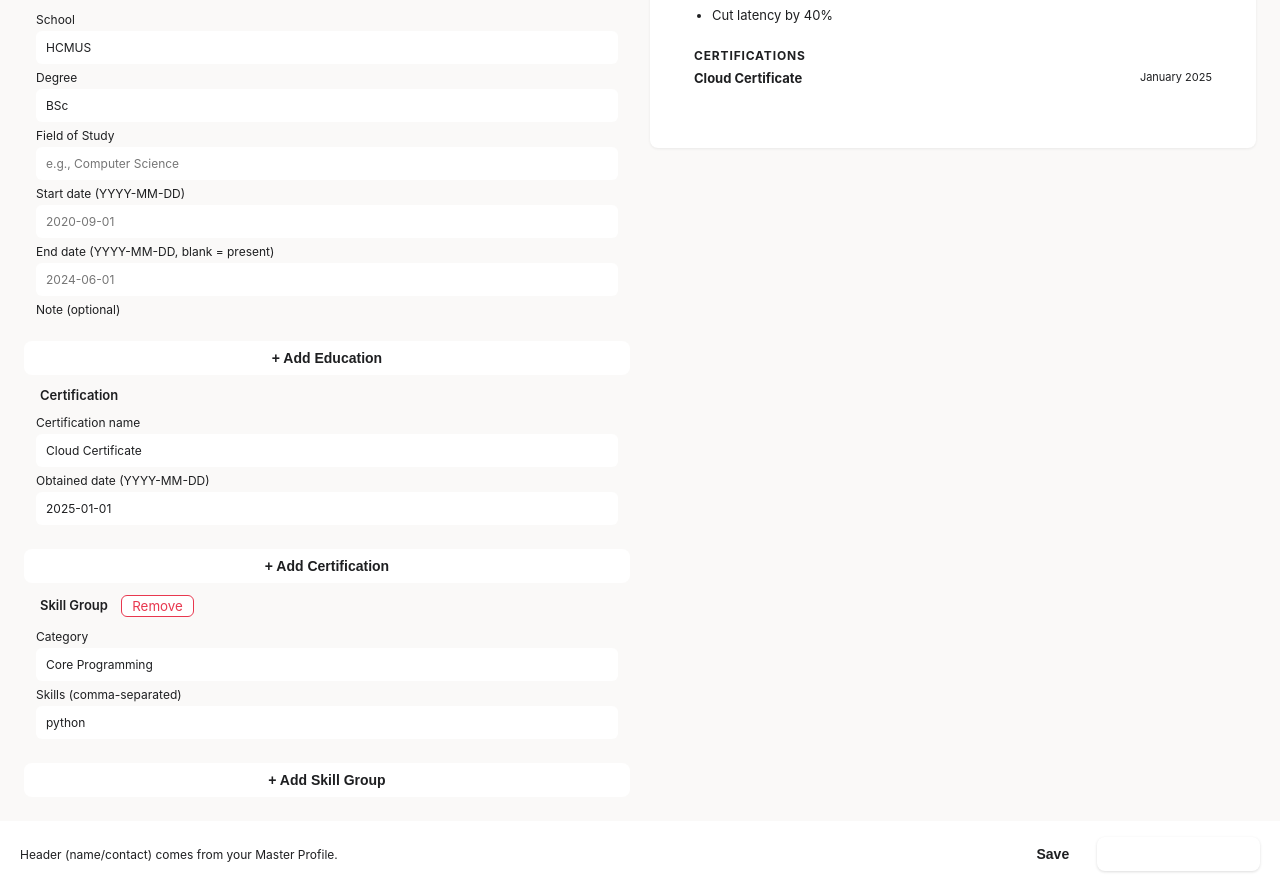
Test: CvEditor certifications › only shows remove controls after another certification is added
(page scrolled)
Click the button "+ Add Certification" at (327, 566), box [24, 549, 630, 583]
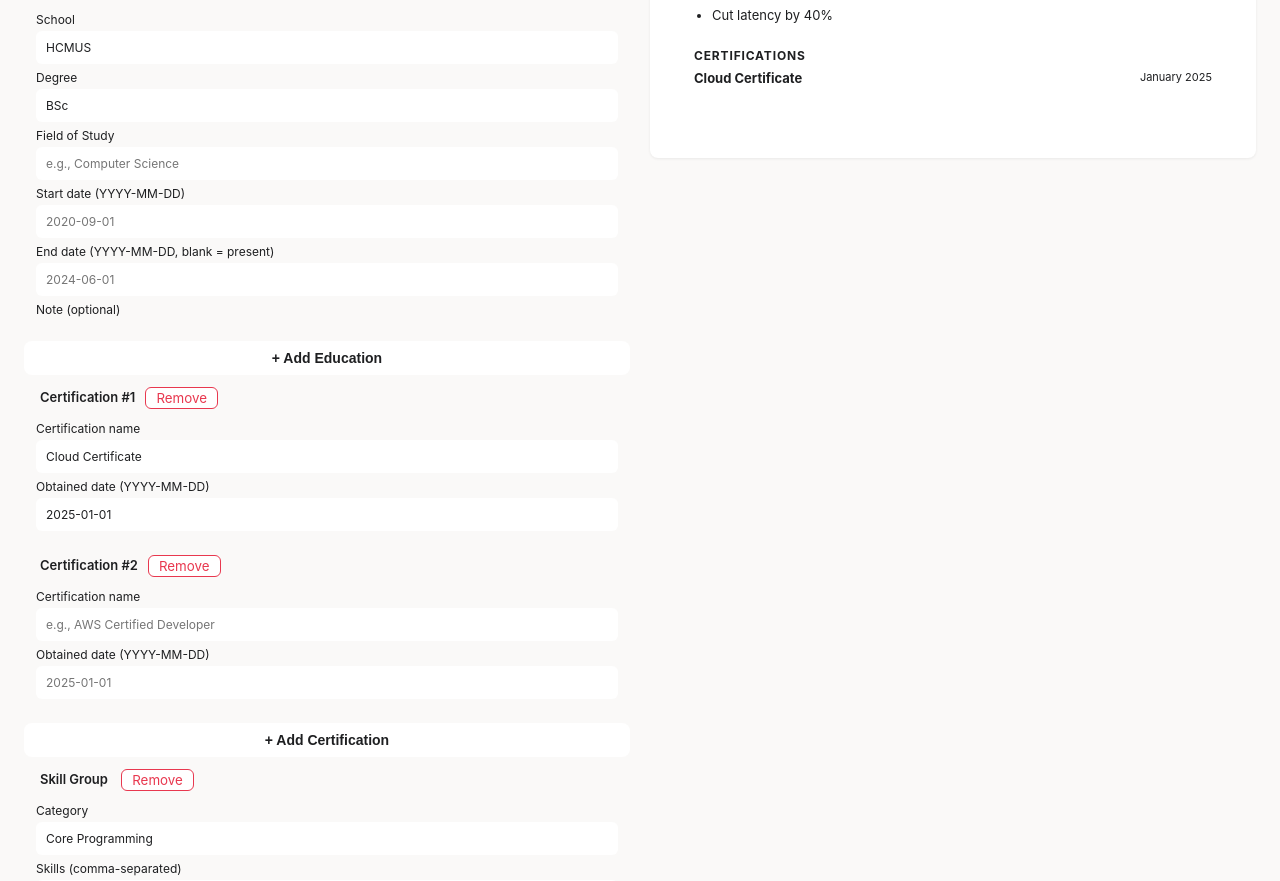
Expected: the number of fields labelled "Certification name" is 2, [36, 440, 618, 473]; [36, 608, 618, 641]
Expected: the button with aria-label "Remove certification #1" is shown, [145, 387, 218, 409]
Expected: the button with aria-label "Remove certification #2" is shown
Click the button with aria-label "Remove certification #2" at (184, 566), box [148, 555, 221, 577]
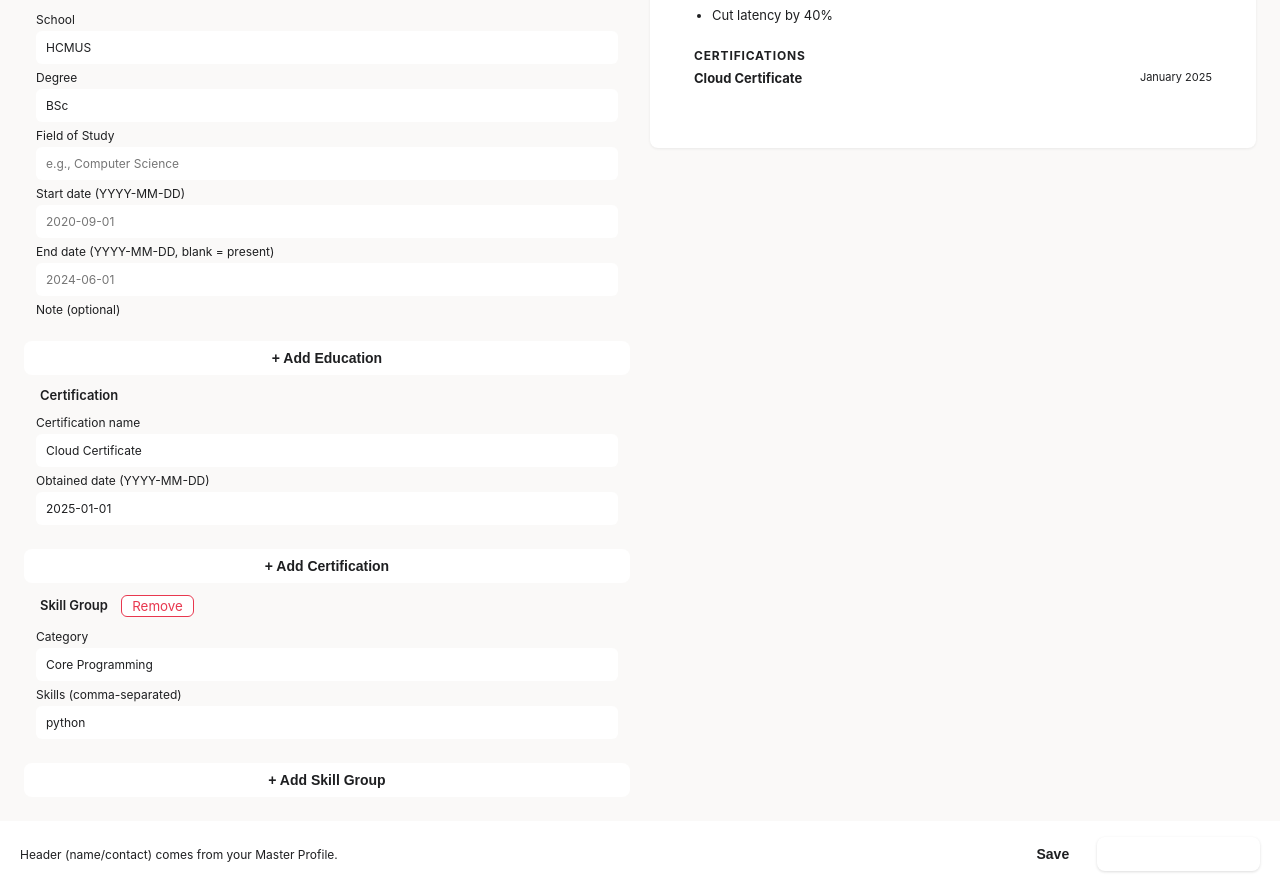
Expected: the number of fields labelled "Certification name" is 1, [36, 434, 618, 467]
